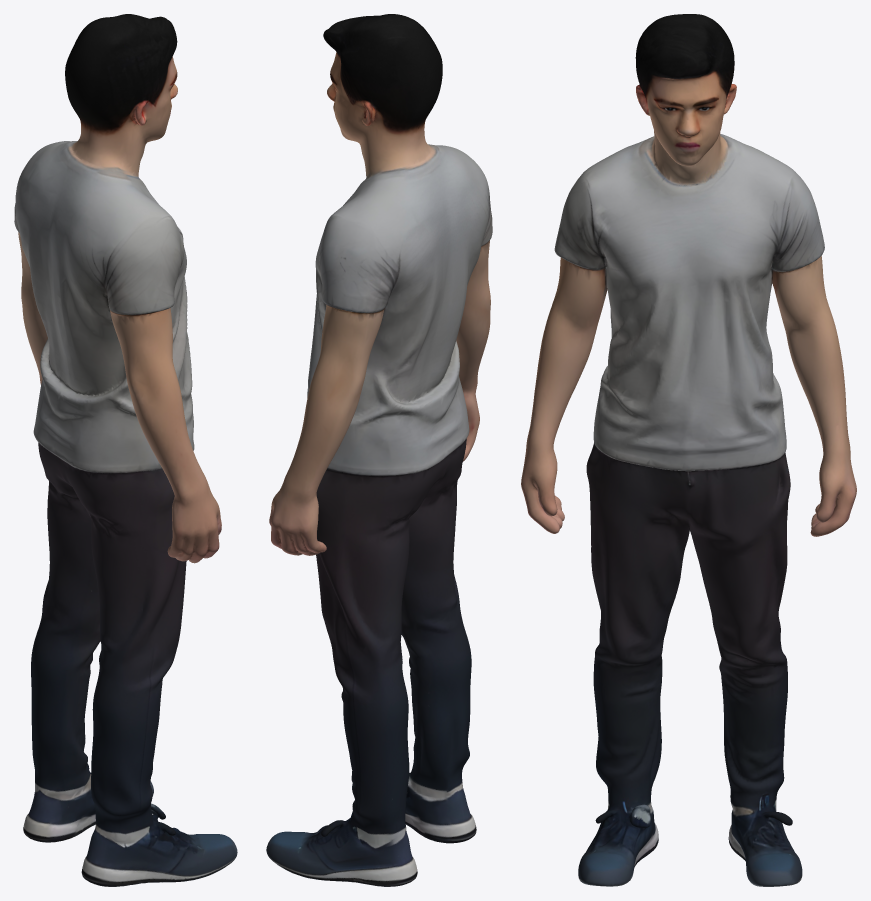
The model's file is tripo_pbr_model_237b2f34-7a76-_3bc395a0_opt.glb.
3 views of the same model, side by side, from view 1: azimuth 30°, elevation 25°; view 2: azimuth 150°, elevation 25°; view 3: azimuth 270°, elevation 25° (orthographic). The views are drawn at different scales.
Visible parts, largest first — view 1: tripo_node_237b2f34-7a76-48ce-8b18-c8d433683eb4; view 2: tripo_node_237b2f34-7a76-48ce-8b18-c8d433683eb4; view 3: tripo_node_237b2f34-7a76-48ce-8b18-c8d433683eb4.
Boxes of the visible parts, box(x1,y1,x2,y2) form: tripo_node_237b2f34-7a76-48ce-8b18-c8d433683eb4: box(14, 14, 237, 886); tripo_node_237b2f34-7a76-48ce-8b18-c8d433683eb4: box(266, 14, 492, 886); tripo_node_237b2f34-7a76-48ce-8b18-c8d433683eb4: box(521, 14, 856, 886).
Bounding box in the file's own units: 0.183 × 1 × 0.3613.
Materials: 1 (1 with a texture image).
